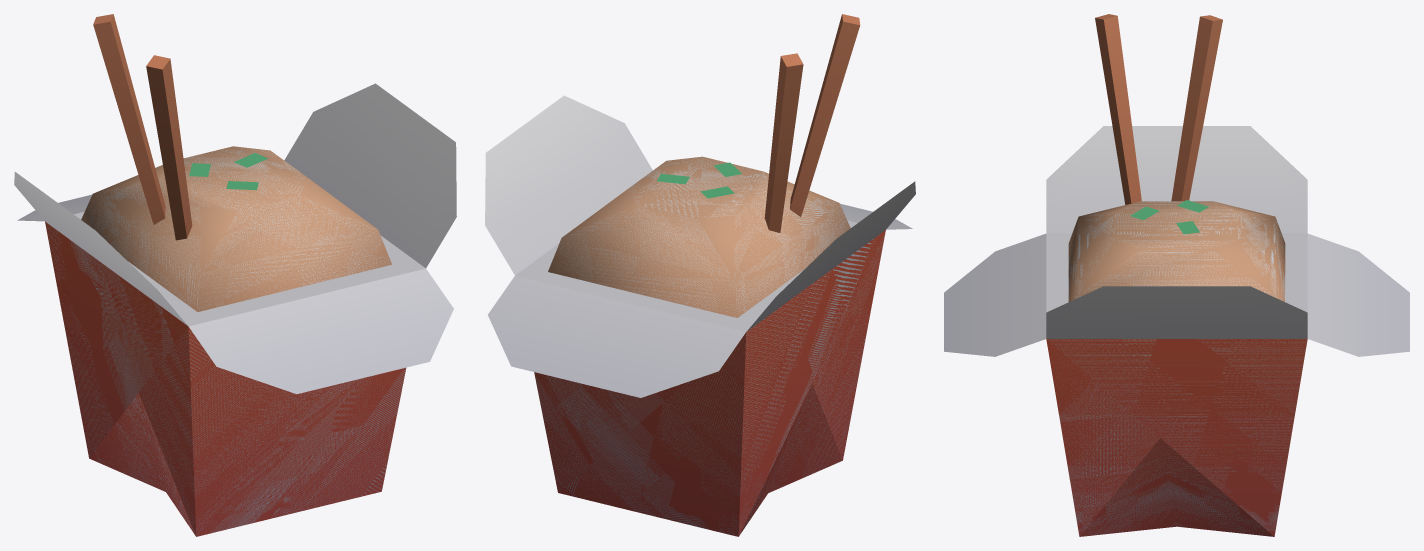
Rendered from chinese.glb.
3 renders of one model, left to right at view 1: azimuth 30°, elevation 25°; view 2: azimuth 150°, elevation 25°; view 3: azimuth 270°, elevation 25°, orthographic. The views are drawn at different scales.
Parts seen in each view (by area): view 1: chinese, chopstick (×2); view 2: chinese, chopstick (×2); view 3: chinese, chopstick (×2).
Boxes of the visible parts, left/top/right/bottom form: chinese: left=14, top=83, right=456, bottom=536; chopstick (×2): left=93, top=14, right=192, bottom=240; chinese: left=485, top=95, right=915, bottom=536; chopstick (×2): left=764, top=14, right=860, bottom=232; chinese: left=944, top=126, right=1409, bottom=536; chopstick (×2): left=1095, top=14, right=1222, bottom=204.
Size of the model in its own units: 0.4538 by 0.5671 by 0.5575.
